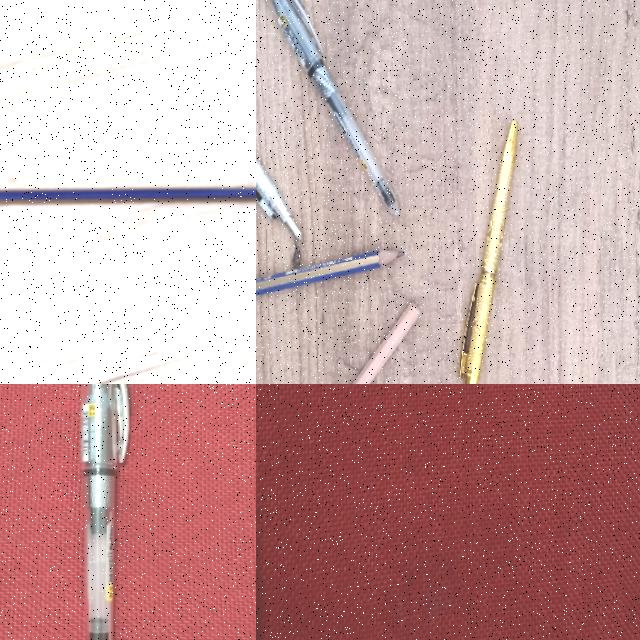pen: (258, 0, 400, 217), (81, 384, 128, 639)
pencil: (256, 248, 405, 323), (351, 303, 419, 384), (0, 188, 255, 204)
signature pen: (460, 122, 523, 384), (256, 158, 301, 238)
